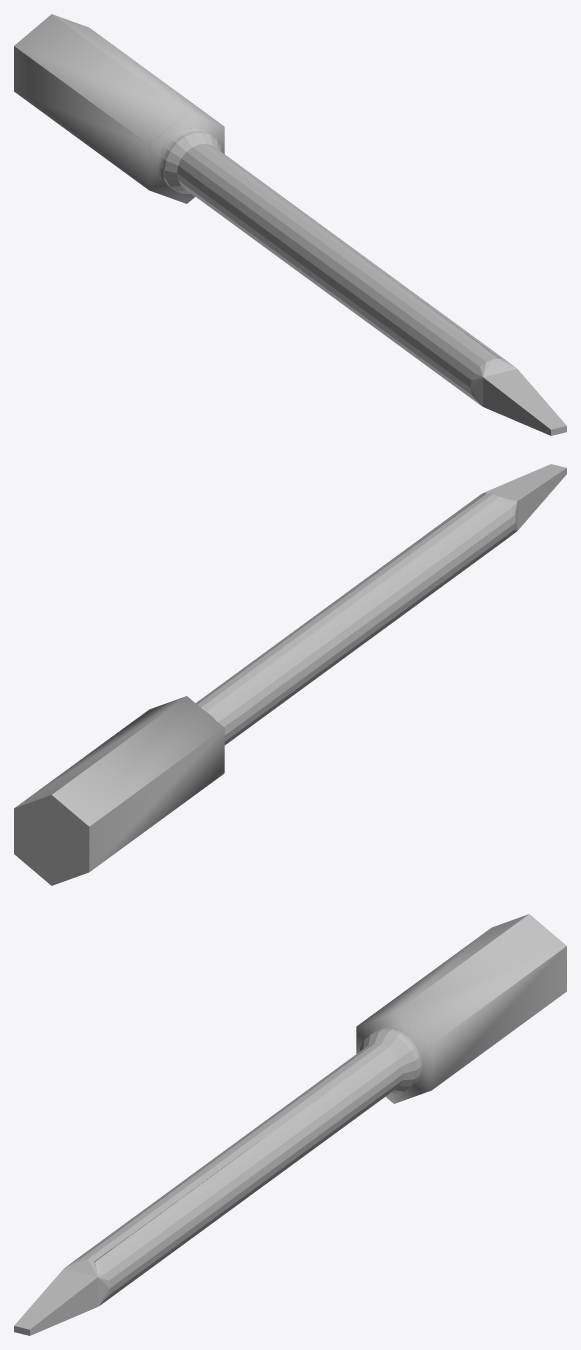
Rendered from drill_head.obj.
3 renders of one model, top to bottom at view 1: azimuth 30°, elevation 25°; view 2: azimuth 150°, elevation 25°; view 3: azimuth 330°, elevation 25°, orthographic.
Parts seen in each view (by area): view 1: Cube.001; view 2: Cube.001; view 3: Cube.001.
Boxes of the visible parts, x1,y1,x2,y2 form: Cube.001: (14,14,566,435); Cube.001: (14,464,566,885); Cube.001: (14,914,566,1335).
Bounding box in the file's own units: 0.147 × 0.1697 × 1.71.
